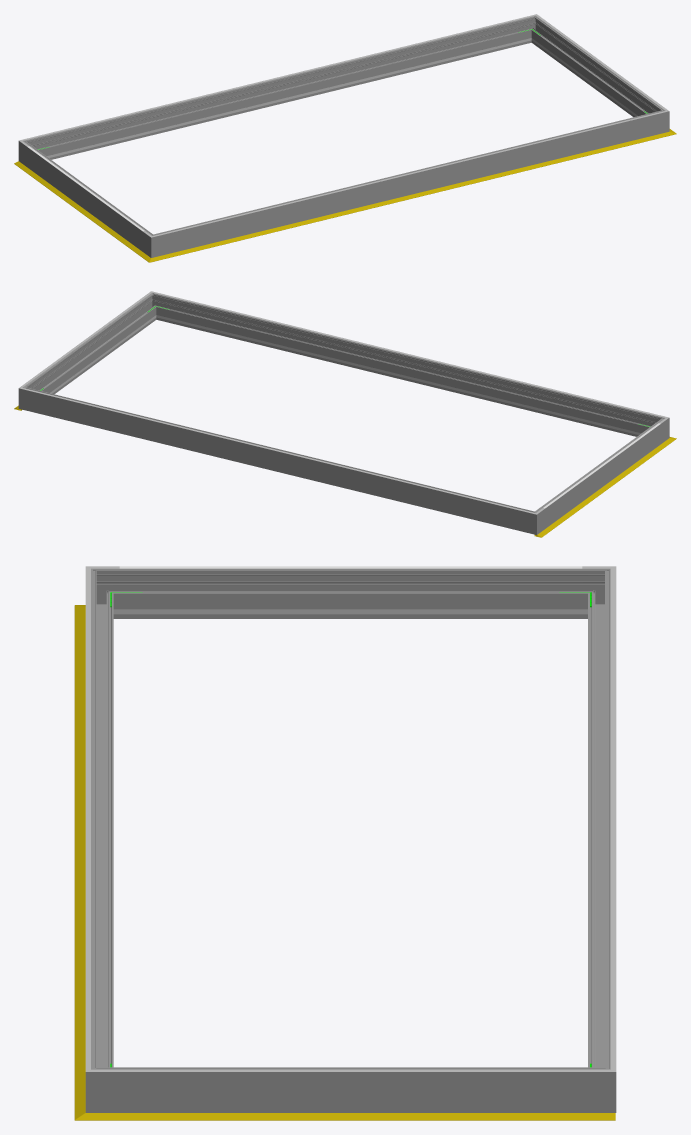
3 views of the same model, one above another, from view 1: azimuth 30°, elevation 25°; view 2: azimuth 150°, elevation 25°; view 3: azimuth 270°, elevation 25° (orthographic). The views are drawn at different scales.
Parts seen in each view (by area): view 1: 3DGeom-276, 3DGeom-298, 3DGeom-297, 3DGeom-268, 3DGeom-28, 3DGeom-244, 3DGeom-316, 3DGeom-304, 3DGeom-38, 3DGeom-270; view 2: 3DGeom-298, 3DGeom-276, 3DGeom-297, 3DGeom-268, 3DGeom-239, 3DGeom-316, 3DGeom-304, 3DGeom-38, 3DGeom-278, 3DGeom-284; view 3: 3DGeom-268, 3DGeom-297, 3DGeom-298, 3DGeom-276, 3DGeom-28, 3DGeom-30, 3DGeom-304, 3DGeom-316, 3DGeom-232, 3DGeom-284, 3DGeom-290, 3DGeom-313 (+3 smaller).
Boxes of the visible parts, x1,y1,x2,y2 form: 3DGeom-276: (34, 18, 529, 159); 3DGeom-298: (163, 113, 654, 254); 3DGeom-297: (533, 21, 658, 117); 3DGeom-268: (27, 145, 146, 251); 3DGeom-28: (161, 134, 661, 258); 3DGeom-244: (52, 41, 517, 157); 3DGeom-316: (165, 114, 654, 233); 3DGeom-304: (34, 18, 522, 137); 3DGeom-38: (14, 161, 144, 256); 3DGeom-270: (142, 230, 165, 257); 3DGeom-298: (159, 295, 653, 436); 3DGeom-276: (33, 390, 524, 531); 3DGeom-297: (29, 298, 154, 394); 3DGeom-268: (541, 422, 660, 528); 3DGeom-239: (170, 318, 635, 434); 3DGeom-316: (165, 295, 654, 414); 3DGeom-304: (33, 391, 522, 510); 3DGeom-38: (534, 442, 668, 537); 3DGeom-278: (522, 507, 545, 534); 3DGeom-284: (18, 382, 35, 411); 3DGeom-268: (119, 568, 582, 618); 3DGeom-297: (119, 1067, 582, 1112); 3DGeom-298: (91, 580, 113, 1067); 3DGeom-276: (588, 580, 610, 1067); 3DGeom-28: (74, 617, 85, 1105); 3DGeom-30: (108, 1113, 615, 1120); 3DGeom-304: (610, 580, 616, 1057); 3DGeom-316: (85, 580, 90, 1057); 3DGeom-232: (146, 609, 555, 614); 3DGeom-284: (582, 1057, 616, 1112); 3DGeom-290: (85, 1057, 119, 1112); 3DGeom-313: (119, 566, 582, 568).
Bounding box in the file's own units: 5.49 × 0.2195 × 2.44.
